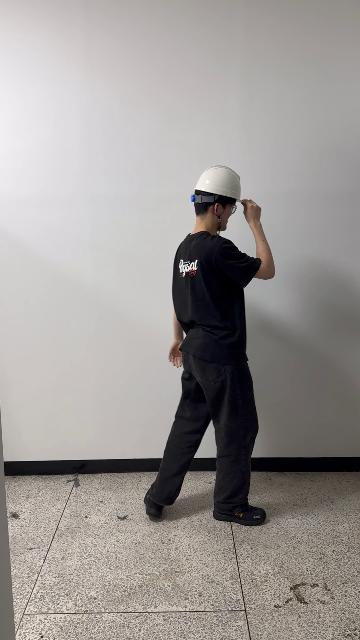helmet_worn: (193, 165, 243, 201)
shoe_worn: (213, 504, 266, 525), (143, 489, 165, 518)
vest_not_worn: (174, 234, 252, 387)
